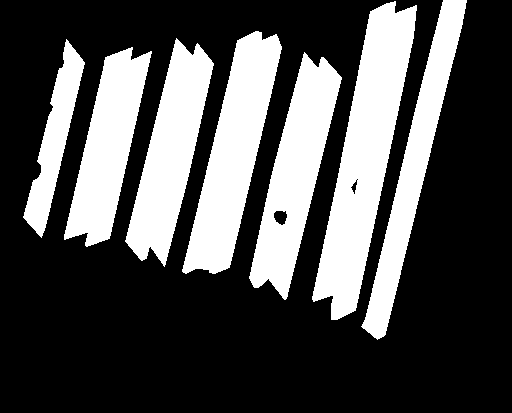parkingspot: (361, 0, 466, 339), (331, 5, 416, 319), (312, 1, 395, 301), (182, 31, 261, 273), (267, 57, 341, 299), (207, 34, 281, 273), (249, 52, 320, 287), (125, 38, 195, 260), (148, 43, 213, 266), (64, 47, 132, 239), (85, 51, 151, 246), (23, 39, 84, 237)
